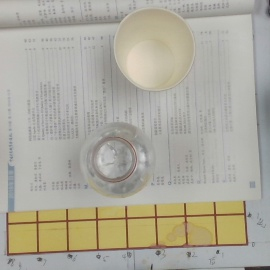bottle: (80, 120, 154, 198)
cup: (114, 9, 196, 92)
